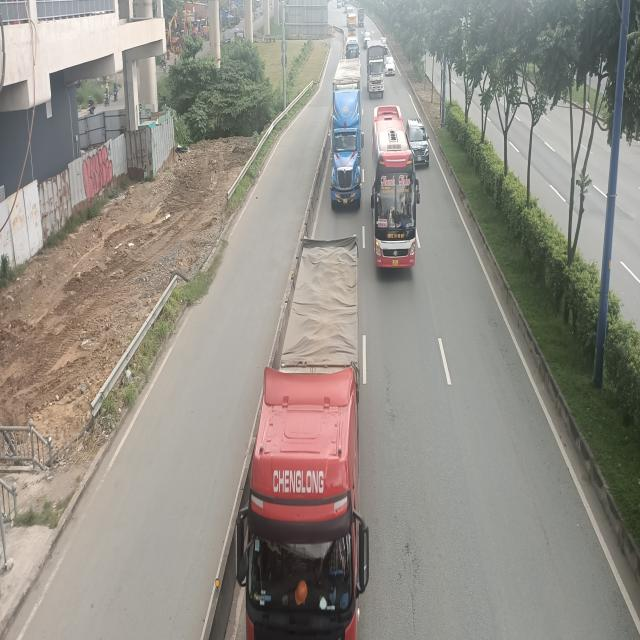car: (408, 115, 430, 167), (385, 56, 395, 75)
coach: (371, 106, 420, 273)
container: (236, 237, 370, 640), (328, 58, 364, 205)
truck: (366, 40, 384, 97)
